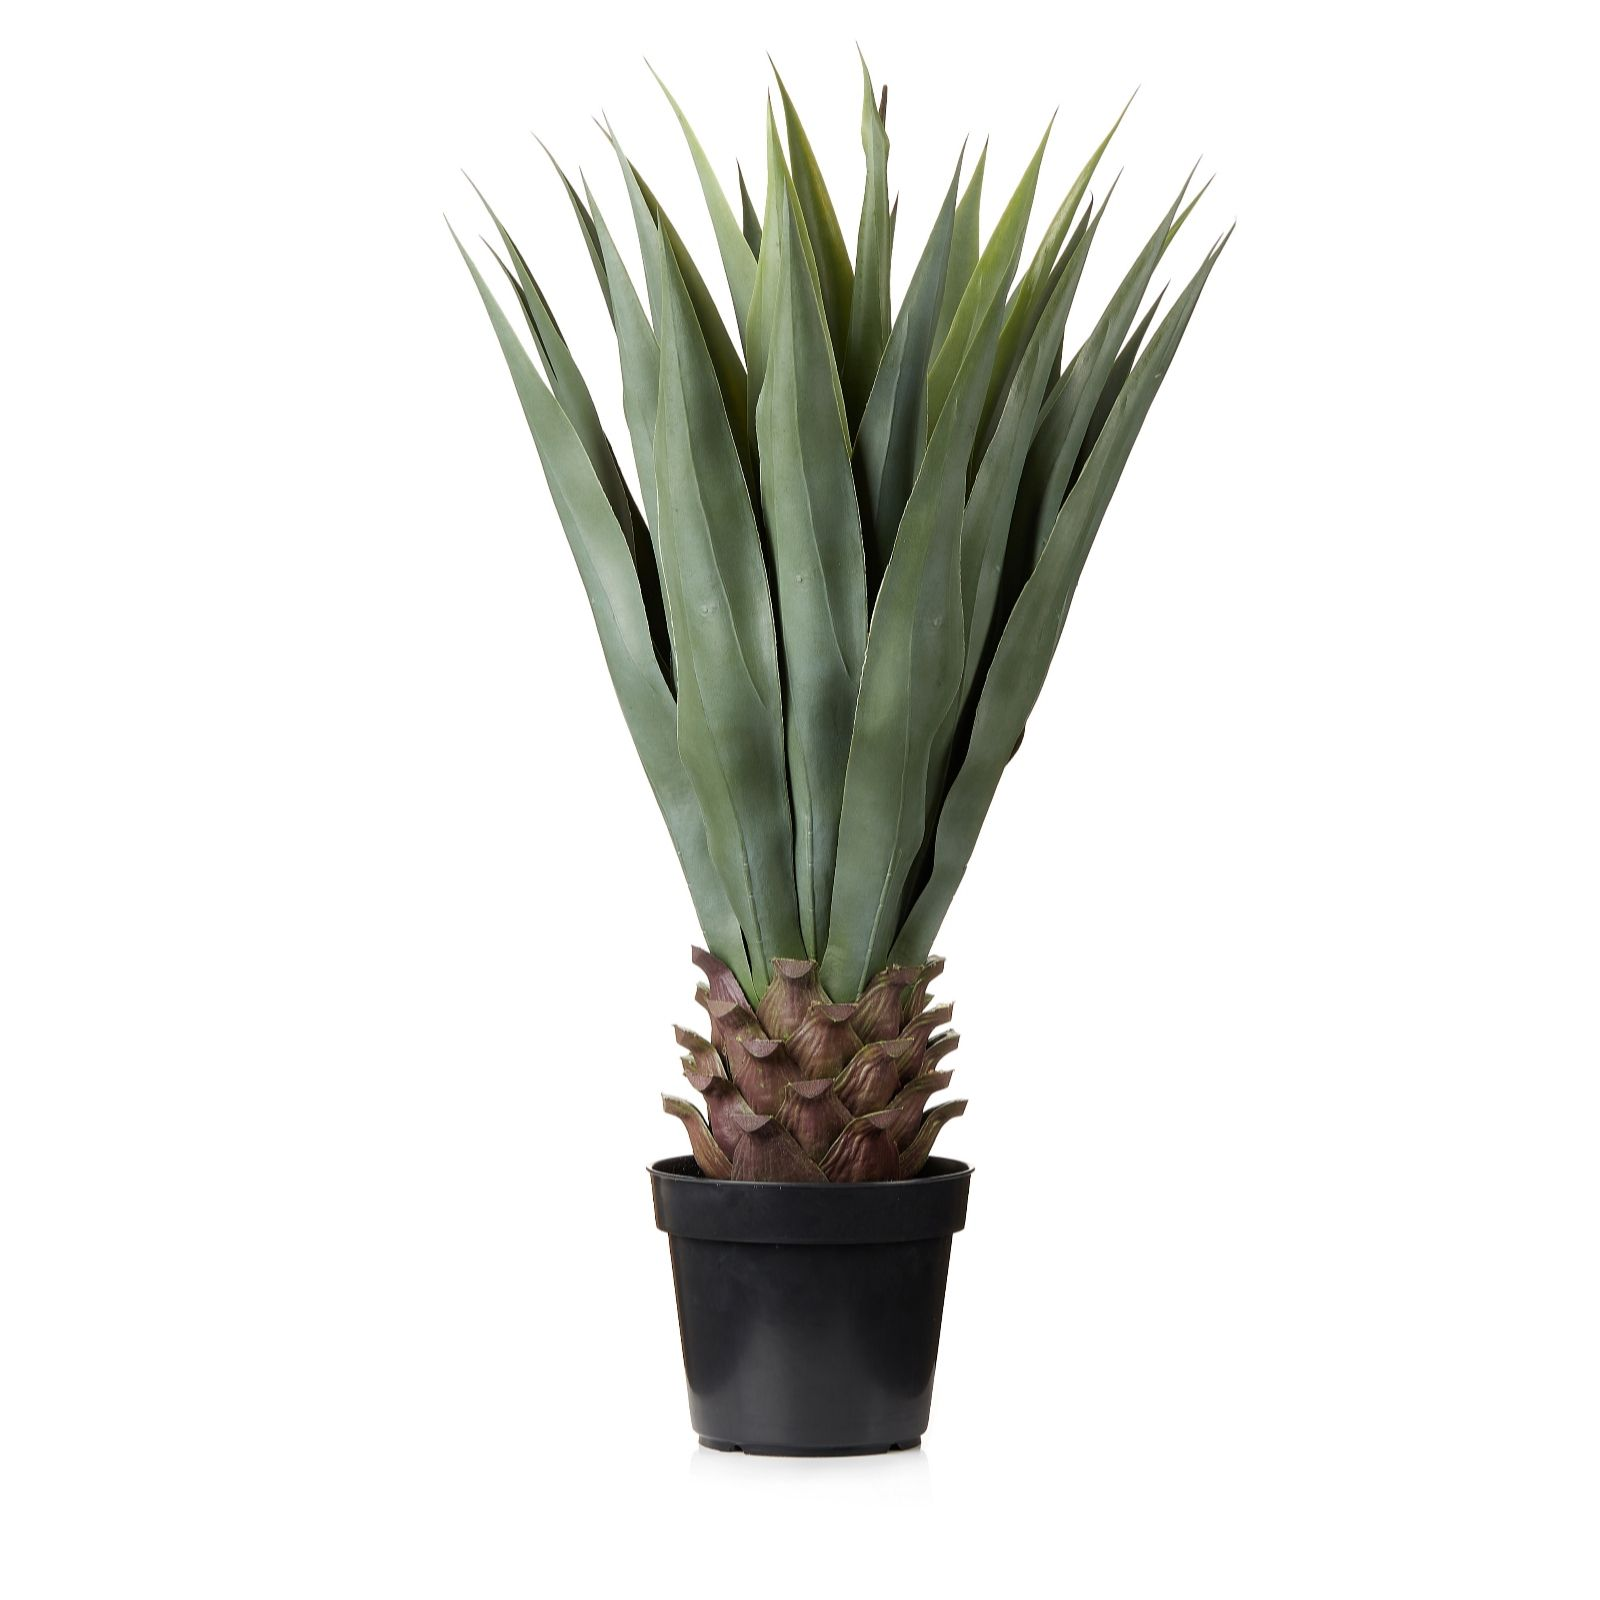tanaman: (397, 32, 1266, 1518)
